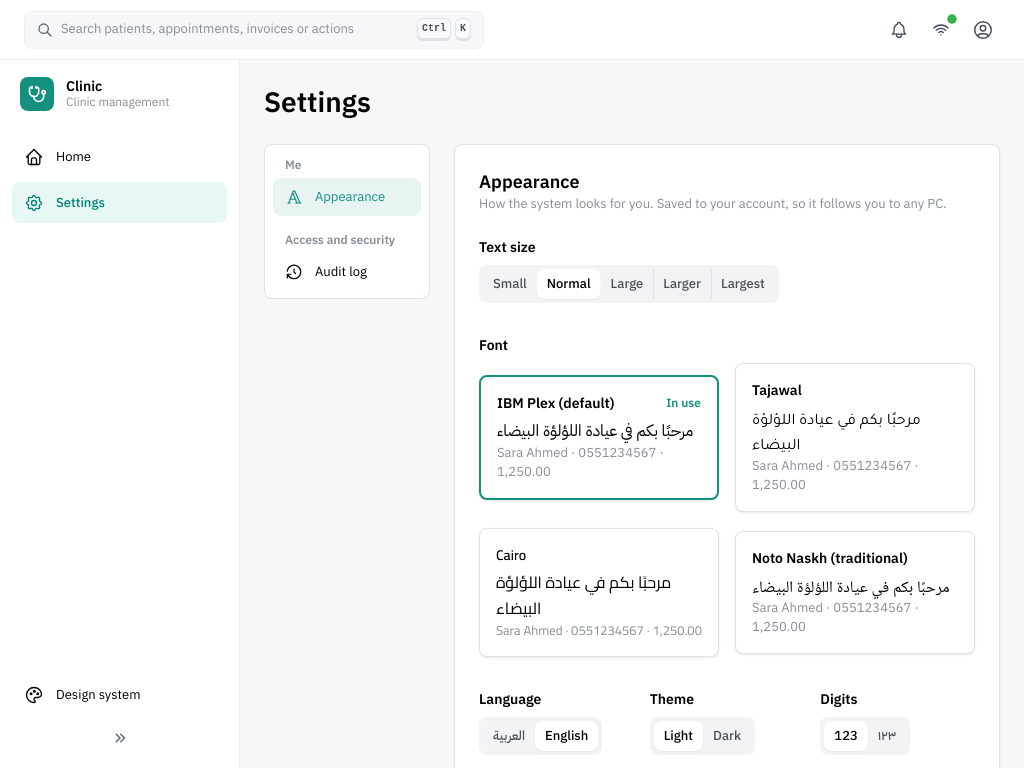
settings sections › shows only the sections the user may open
Check: the link with test id "settings-nav-appearance" is shown, box [273,178,421,216]
Click the link with test id "settings-nav-audit": (326, 272) [285,262,367,280]
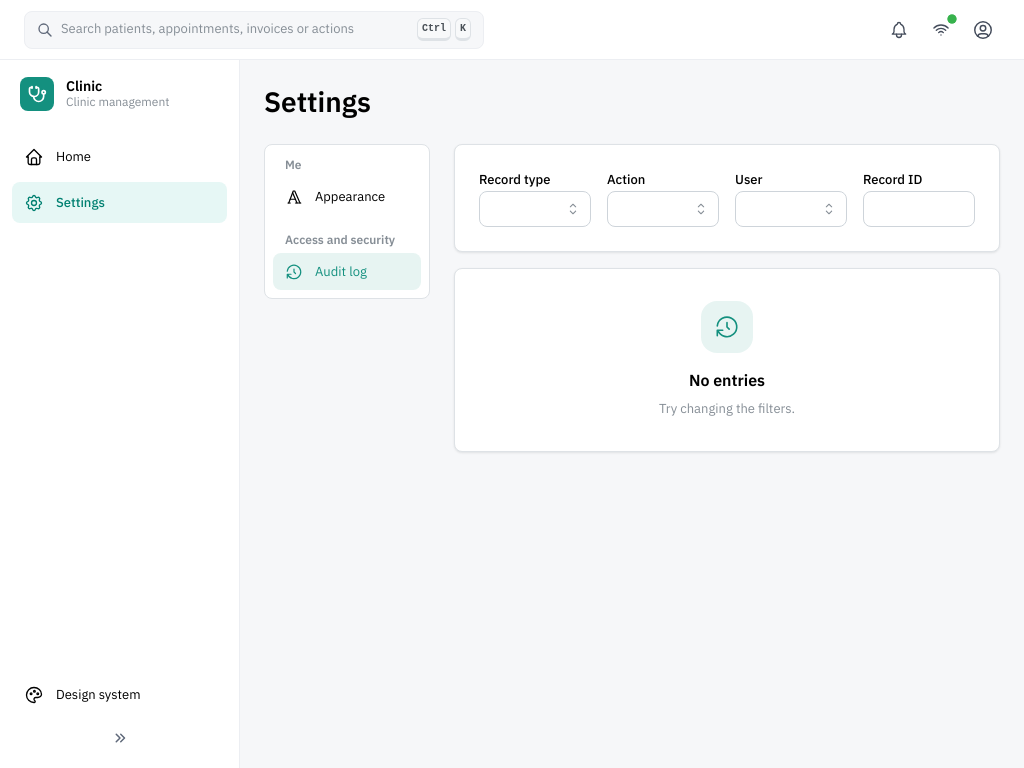
Check: the heading "No entries" is shown, box [689,369,765,392]
